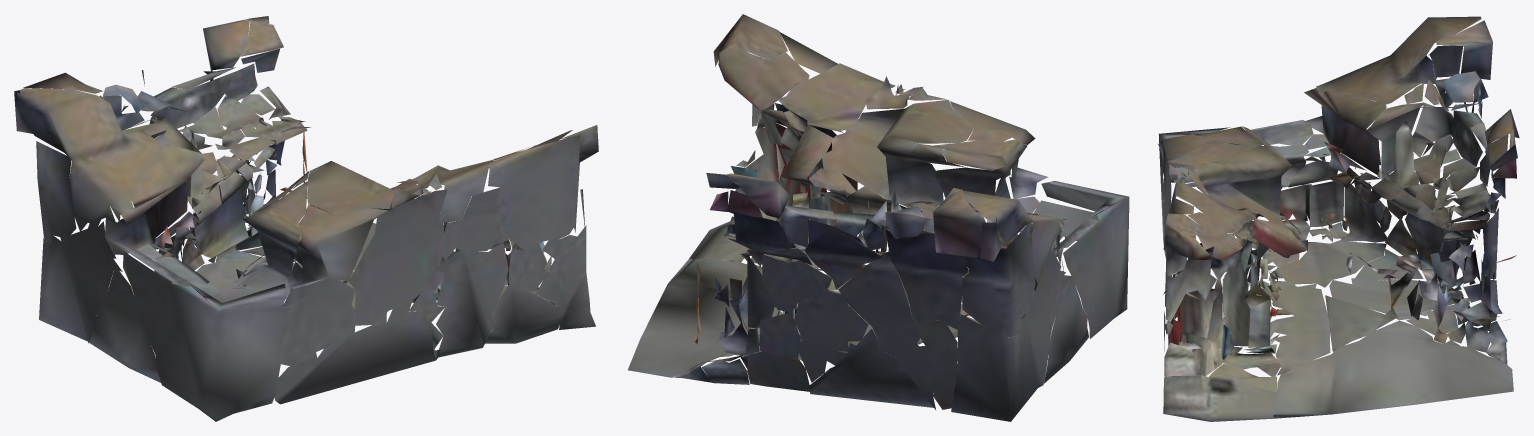
File: preview.glb
3 renders of one model, left to right at view 1: azimuth 30°, elevation 25°; view 2: azimuth 150°, elevation 25°; view 3: azimuth 270°, elevation 25°, orthographic. The views are drawn at different scales.
Visible parts, largest first — view 1: yandai/tripo_node_27639af2-5000-43cd-b74b-3836777b2450; view 2: yandai/tripo_node_27639af2-5000-43cd-b74b-3836777b2450; view 3: yandai/tripo_node_27639af2-5000-43cd-b74b-3836777b2450.
Boxes of the visible parts, x1,y1,x2,y2 form: yandai/tripo_node_27639af2-5000-43cd-b74b-3836777b2450: [14, 16, 598, 421]; yandai/tripo_node_27639af2-5000-43cd-b74b-3836777b2450: [628, 14, 1129, 421]; yandai/tripo_node_27639af2-5000-43cd-b74b-3836777b2450: [1158, 16, 1519, 421].
Size of the model in its own units: 0.9394 by 0.4655 by 0.7106.
1 material, 1 textured.
